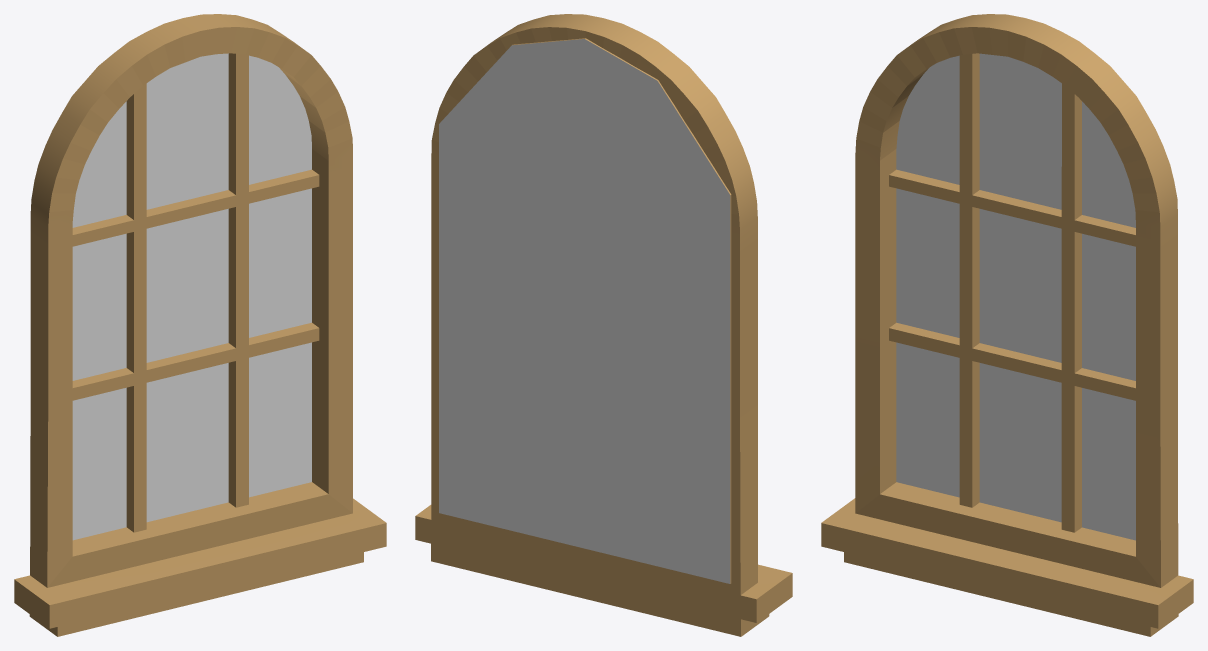
File: Bogenfenster_klein.fbx
3 renders of one model, left to right at view 1: azimuth 30°, elevation 25°; view 2: azimuth 150°, elevation 25°; view 3: azimuth 330°, elevation 25°, orthographic.
Parts seen in each view (by area): view 1: Line001; view 2: Line001; view 3: Line001.
Part boxes in pixels (box(x1,y1,x2,y2)): Line001: box(14, 14, 386, 636); Line001: box(415, 14, 792, 636); Line001: box(821, 14, 1193, 636).
Size of the model in its own units: 26.95 by 42.86 by 5.05.
